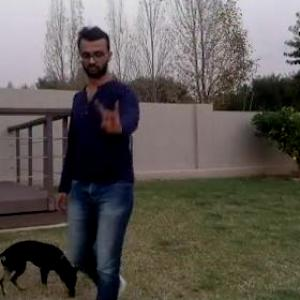takeoff-hand: (91, 94, 132, 137)
